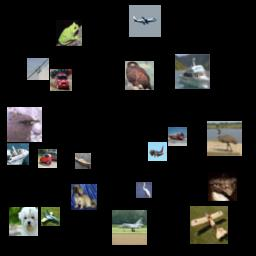airplane: (190, 206, 228, 244), (112, 210, 147, 245), (129, 5, 161, 37), (27, 58, 49, 80), (41, 207, 60, 226), (148, 142, 167, 161)
automobile: (50, 69, 72, 91), (38, 149, 57, 168)
bird: (207, 121, 242, 156), (7, 107, 42, 142), (208, 172, 237, 201), (125, 61, 154, 90), (136, 182, 152, 198)
dog: (9, 207, 38, 236), (71, 184, 97, 210)
frog: (56, 20, 82, 46)
ship: (175, 54, 210, 89), (7, 143, 29, 165), (75, 153, 91, 169)
truck: (168, 127, 187, 146)
